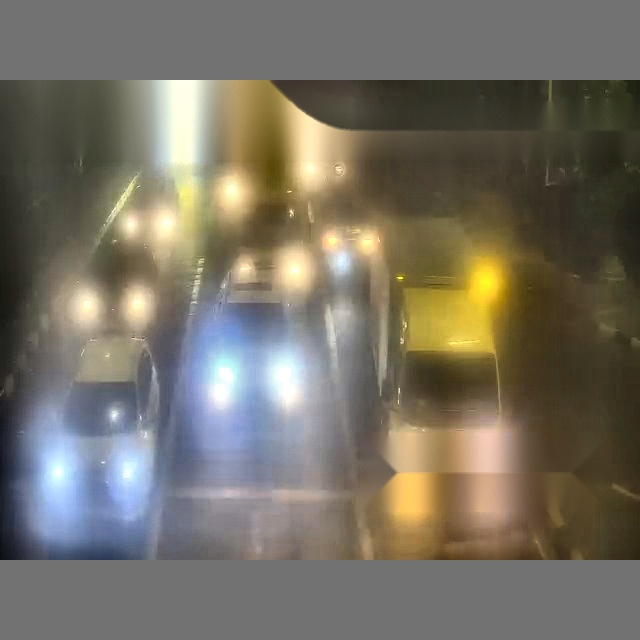Motor: (278, 244, 311, 315), (121, 273, 155, 340)
Truk: (370, 124, 638, 476)
